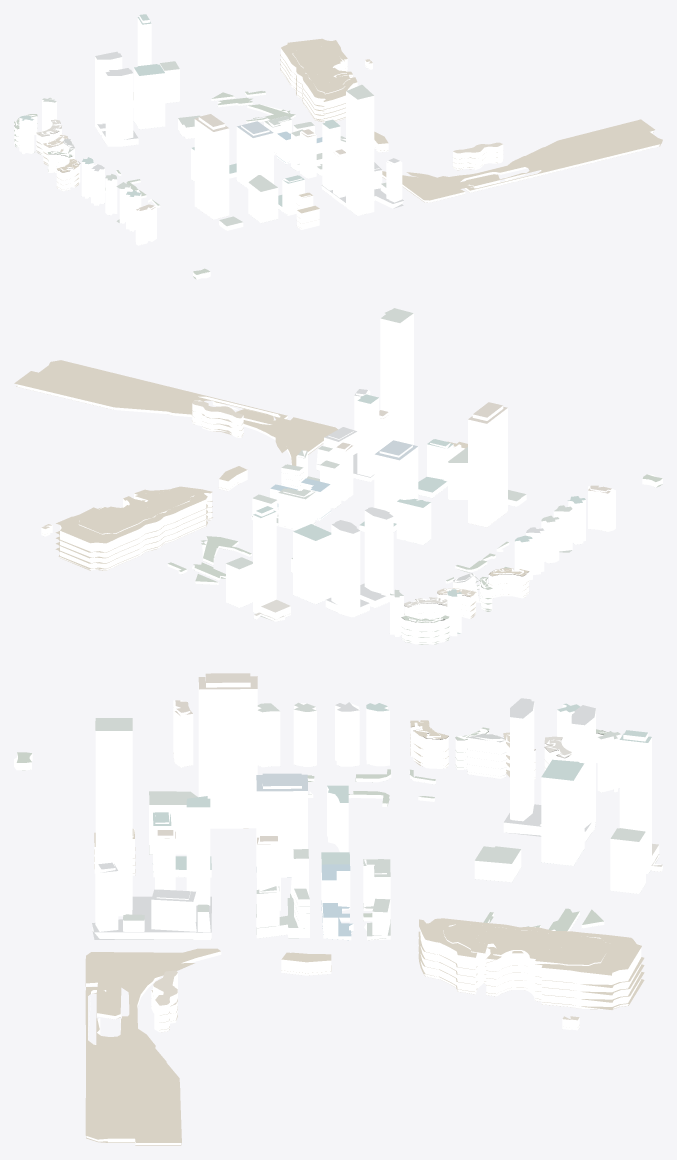
The model's file is buildings--9_-3-coarse.glb.
The picture shows the model from 3 angles, top to bottom: view 1: azimuth 30°, elevation 25°; view 2: azimuth 150°, elevation 25°; view 3: azimuth 270°, elevation 25°; orthographic projection. The views are drawn at different scales.
Parts seen in each view (by area): view 1: block_-9_-3_office, block_-9_-3_roof, block_-9_-3_residential; view 2: block_-9_-3_office, block_-9_-3_roof, block_-9_-3_residential; view 3: block_-9_-3_office, block_-9_-3_roof, block_-9_-3_residential.
Part boxes in pixels (box(x1,y1,x2,y2)): block_-9_-3_office: box(19, 15, 403, 245); block_-9_-3_roof: box(14, 14, 662, 279); block_-9_-3_residential: box(14, 43, 659, 279); block_-9_-3_office: box(226, 313, 615, 636); block_-9_-3_roof: box(14, 308, 662, 644); block_-9_-3_residential: box(17, 384, 662, 644); block_-9_-3_office: box(92, 673, 651, 940); block_-9_-3_roof: box(16, 673, 662, 1145); block_-9_-3_residential: box(14, 722, 662, 1144).
Size of the model in its own units: 919 by 211 by 639.
